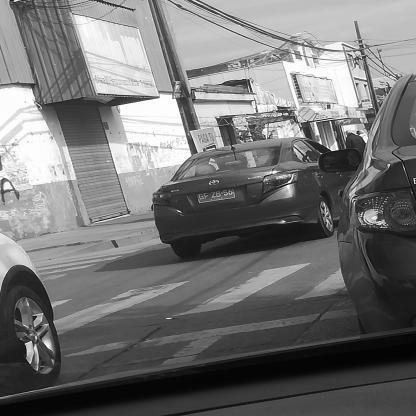Patente: (196, 187, 238, 204)
